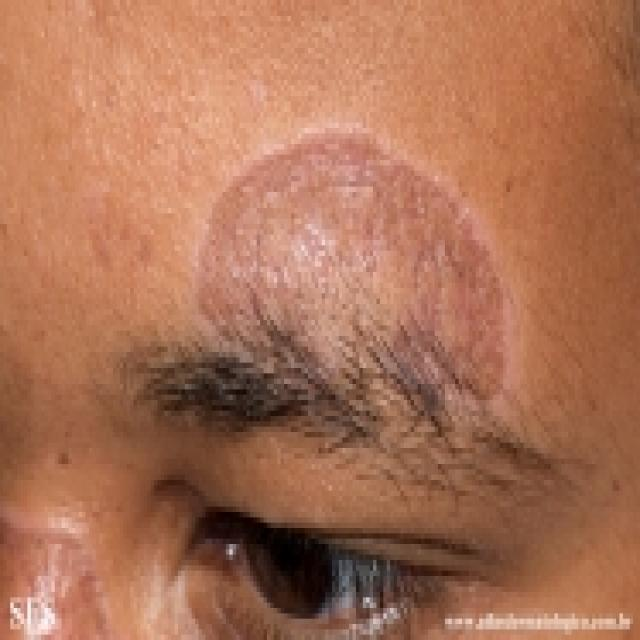lupus: (182, 104, 534, 424)
